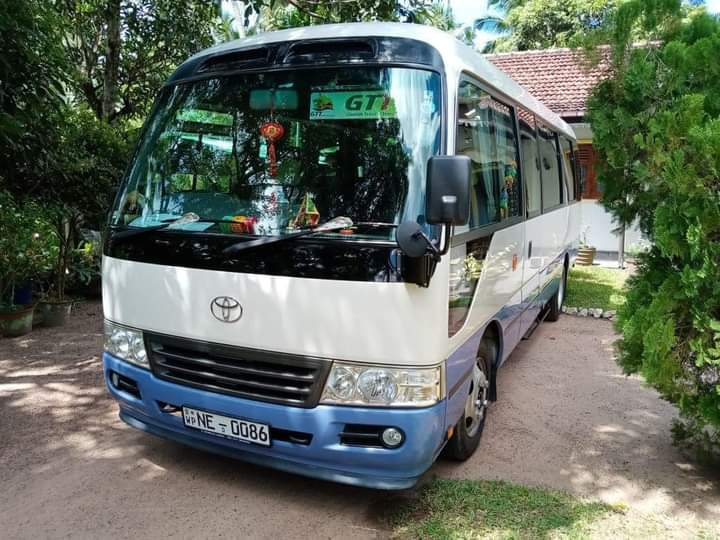number_plate: (181, 408, 271, 447)
